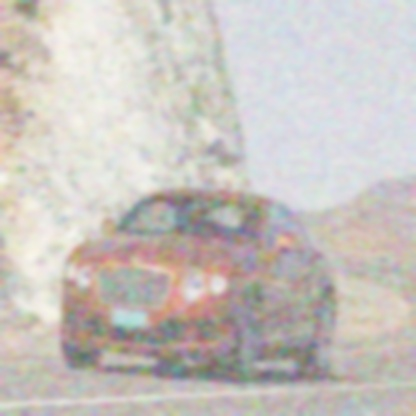Vehicle: (58, 184, 344, 387)
